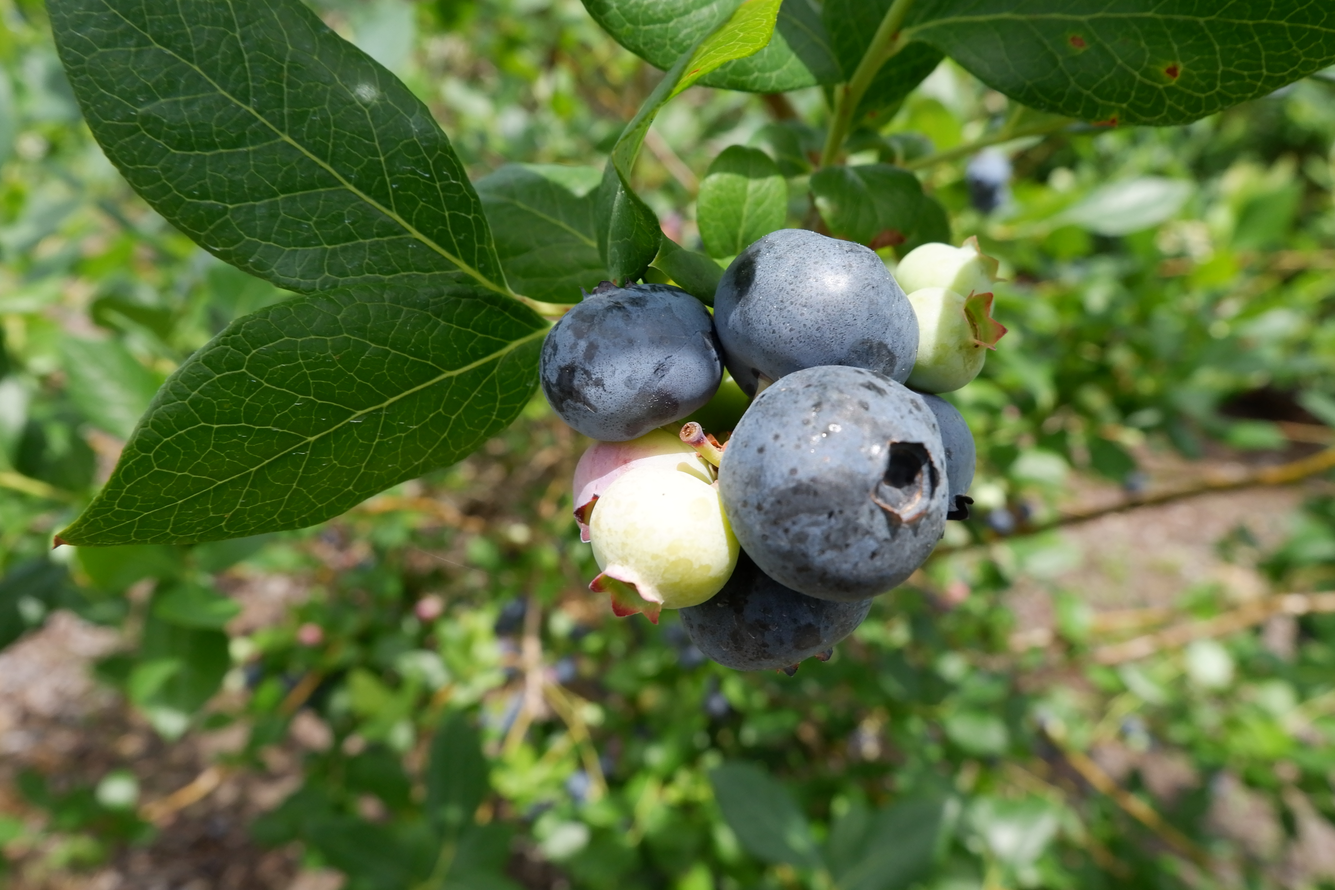Immature: (585, 459, 735, 611), (575, 430, 707, 519), (912, 289, 1004, 392), (897, 241, 989, 297)
Mature: (719, 369, 950, 591), (716, 234, 917, 401), (542, 285, 720, 436), (682, 551, 869, 670), (918, 393, 975, 519)
